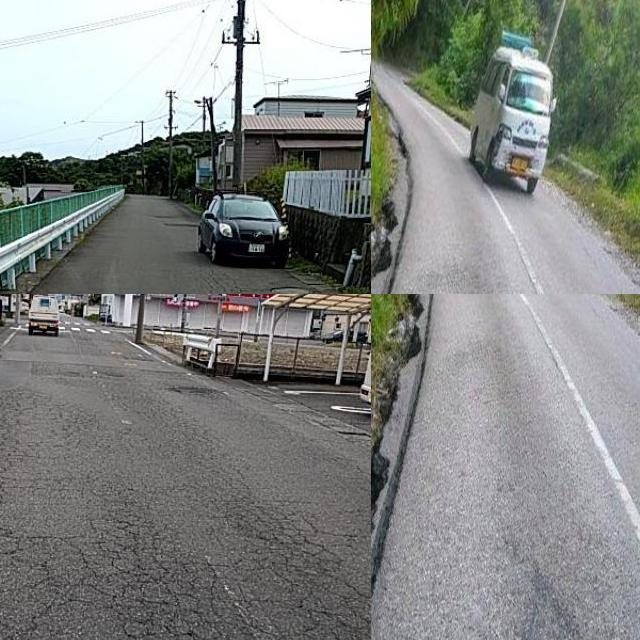Pinggir: (371, 294, 464, 640)
Retak Buaya: (105, 509, 230, 640), (230, 525, 371, 640)
